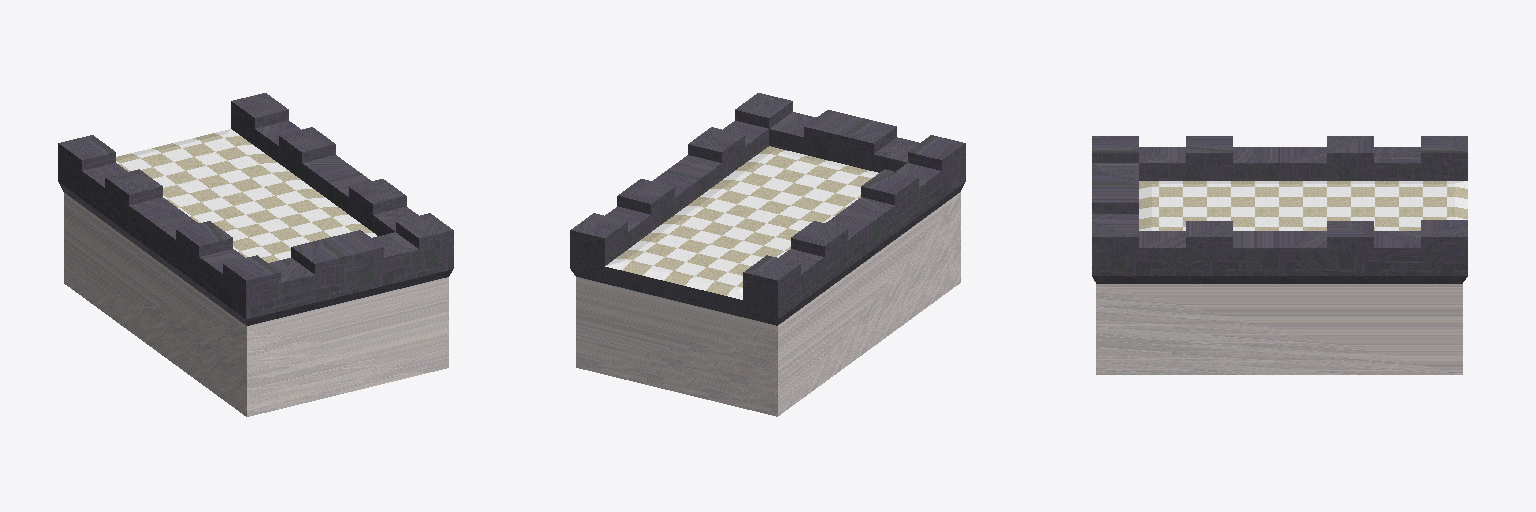
3 views of the same model, side by side, from view 1: azimuth 30°, elevation 25°; view 2: azimuth 150°, elevation 25°; view 3: azimuth 270°, elevation 25° (orthographic).
Parts seen in each view (by area): view 1: Plane.000_Plane.008, Plane.002_Plane.009, Plane.001_Plane.000; view 2: Plane.000_Plane.008, Plane.002_Plane.009, Plane.001_Plane.000; view 3: Plane.000_Plane.008, Plane.002_Plane.009, Plane.001_Plane.000.
Boxes of the visible parts, x1,y1,x2,y2 form: Plane.000_Plane.008: [58, 93, 453, 325]; Plane.002_Plane.009: [64, 193, 448, 416]; Plane.001_Plane.000: [116, 129, 376, 262]; Plane.000_Plane.008: [570, 93, 965, 325]; Plane.002_Plane.009: [576, 192, 960, 416]; Plane.001_Plane.000: [605, 146, 878, 299]; Plane.000_Plane.008: [1092, 136, 1467, 283]; Plane.002_Plane.009: [1096, 284, 1462, 374]; Plane.001_Plane.000: [1139, 181, 1467, 230].
Size of the model in its own units: 955 by 611 by 1500.
3 materials, 3 textured.